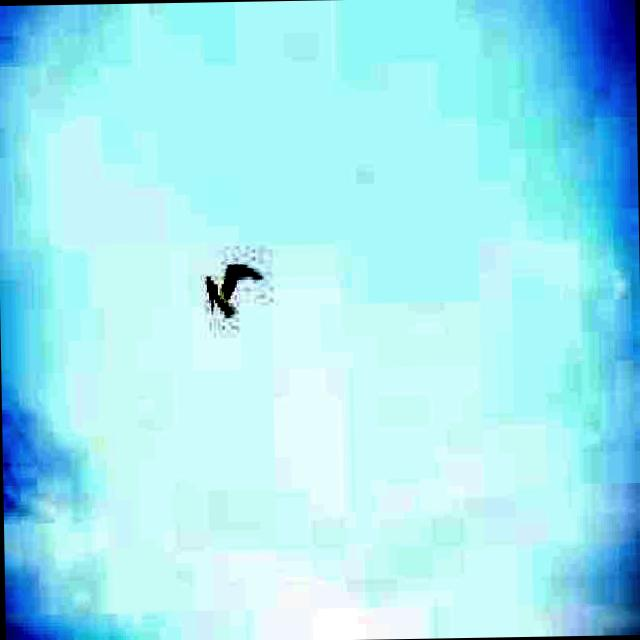bird: (202, 258, 264, 320)
